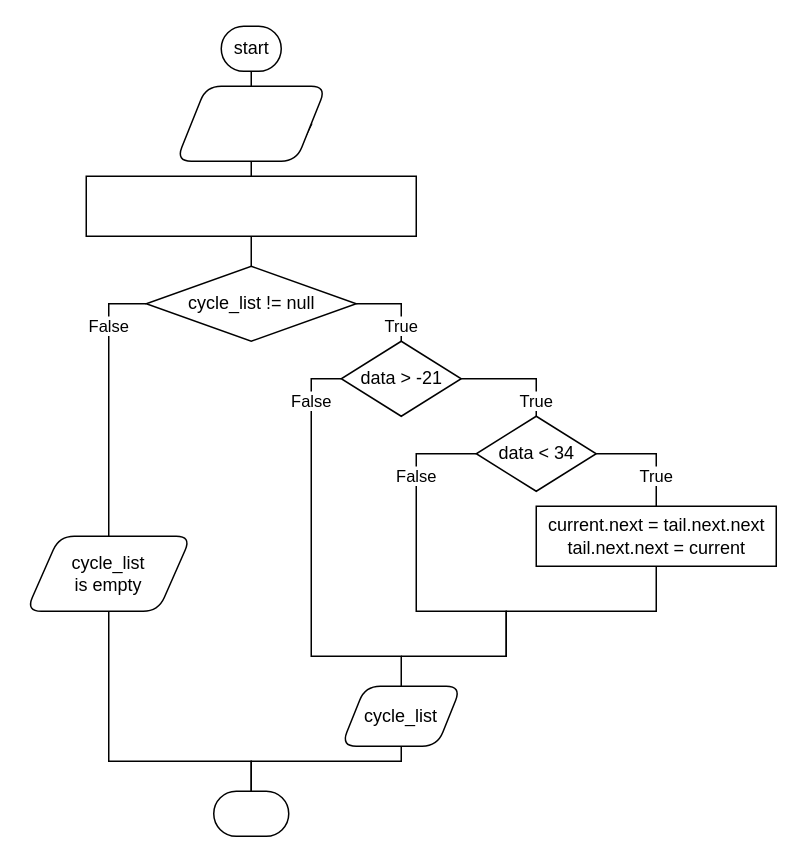
The diagram is 803 pixels wide and 863 high, and some of its shapes have lost their labels. Each missing label, with the centre of its shape:
"end" goes at [250,813].
"Node tail data Є Z" goes at [250,123].
"SLNode cycle_list = new SLNode(); Node current = new Node (data);" goes at [250,205].
